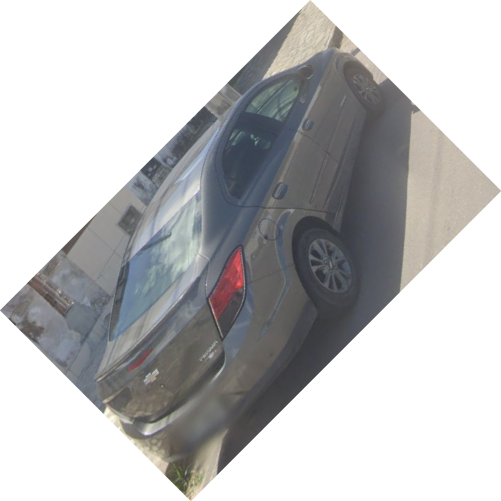car: (98, 48, 384, 440)
